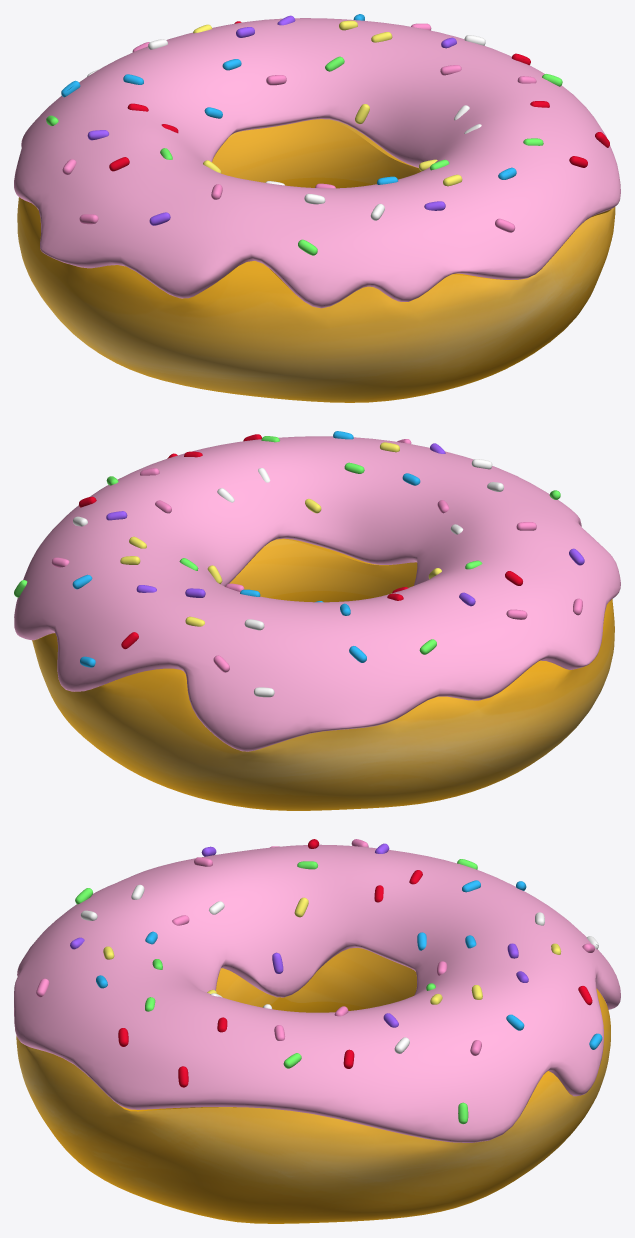
The model's file is donut.glb.
3 views of the same model, one above another, from view 1: azimuth 30°, elevation 25°; view 2: azimuth 150°, elevation 25°; view 3: azimuth 270°, elevation 25° (orthographic). The views are drawn at different scales.
Parts seen in each view (by area): view 1: polySurface59, polySurface1, polySurface50; view 2: polySurface59, polySurface1, polySurface50; view 3: polySurface59, polySurface1, polySurface50.
Part boxes in pixels (box(x1,y1,x2,y2)): polySurface59: box(14, 18, 620, 308); polySurface1: box(17, 119, 615, 402); polySurface50: box(46, 14, 609, 255); polySurface59: box(14, 436, 620, 751); polySurface1: box(32, 538, 614, 810); polySurface50: box(14, 431, 584, 697); polySurface59: box(14, 844, 620, 1142); polySurface1: box(16, 948, 610, 1223); polySurface50: box(36, 839, 602, 1124).
Size of the model in its own units: 0.5536 by 0.2033 by 0.5493.
Materials: 3 (3 with a texture image).
